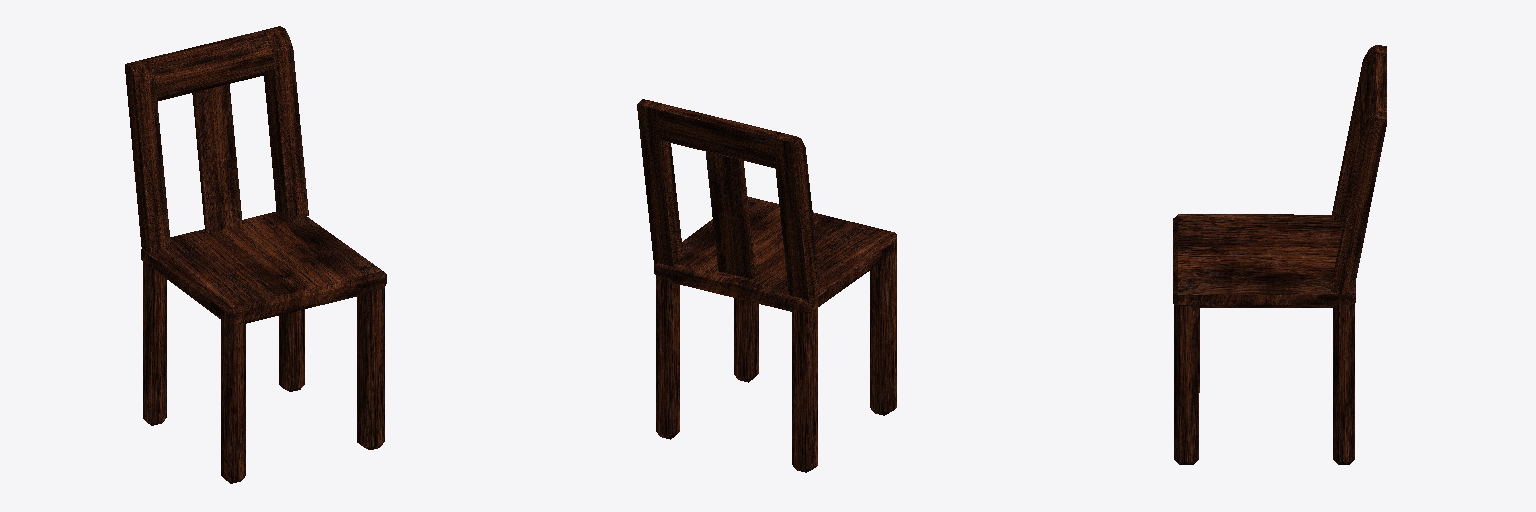
3 views of the same model, side by side, from view 1: azimuth 30°, elevation 25°; view 2: azimuth 150°, elevation 25°; view 3: azimuth 270°, elevation 25° (orthographic).
Parts seen in each view (by area): view 1: polySurface3; view 2: polySurface3; view 3: polySurface3.
Boxes of the visible parts, <box> form: polySurface3: <box>125,26,386,483</box>; polySurface3: <box>637,99,896,472</box>; polySurface3: <box>1173,45,1386,464</box>.
Size of the model in its own units: 1.01 by 2.1 by 1.18.
1 materials, 1 textured.